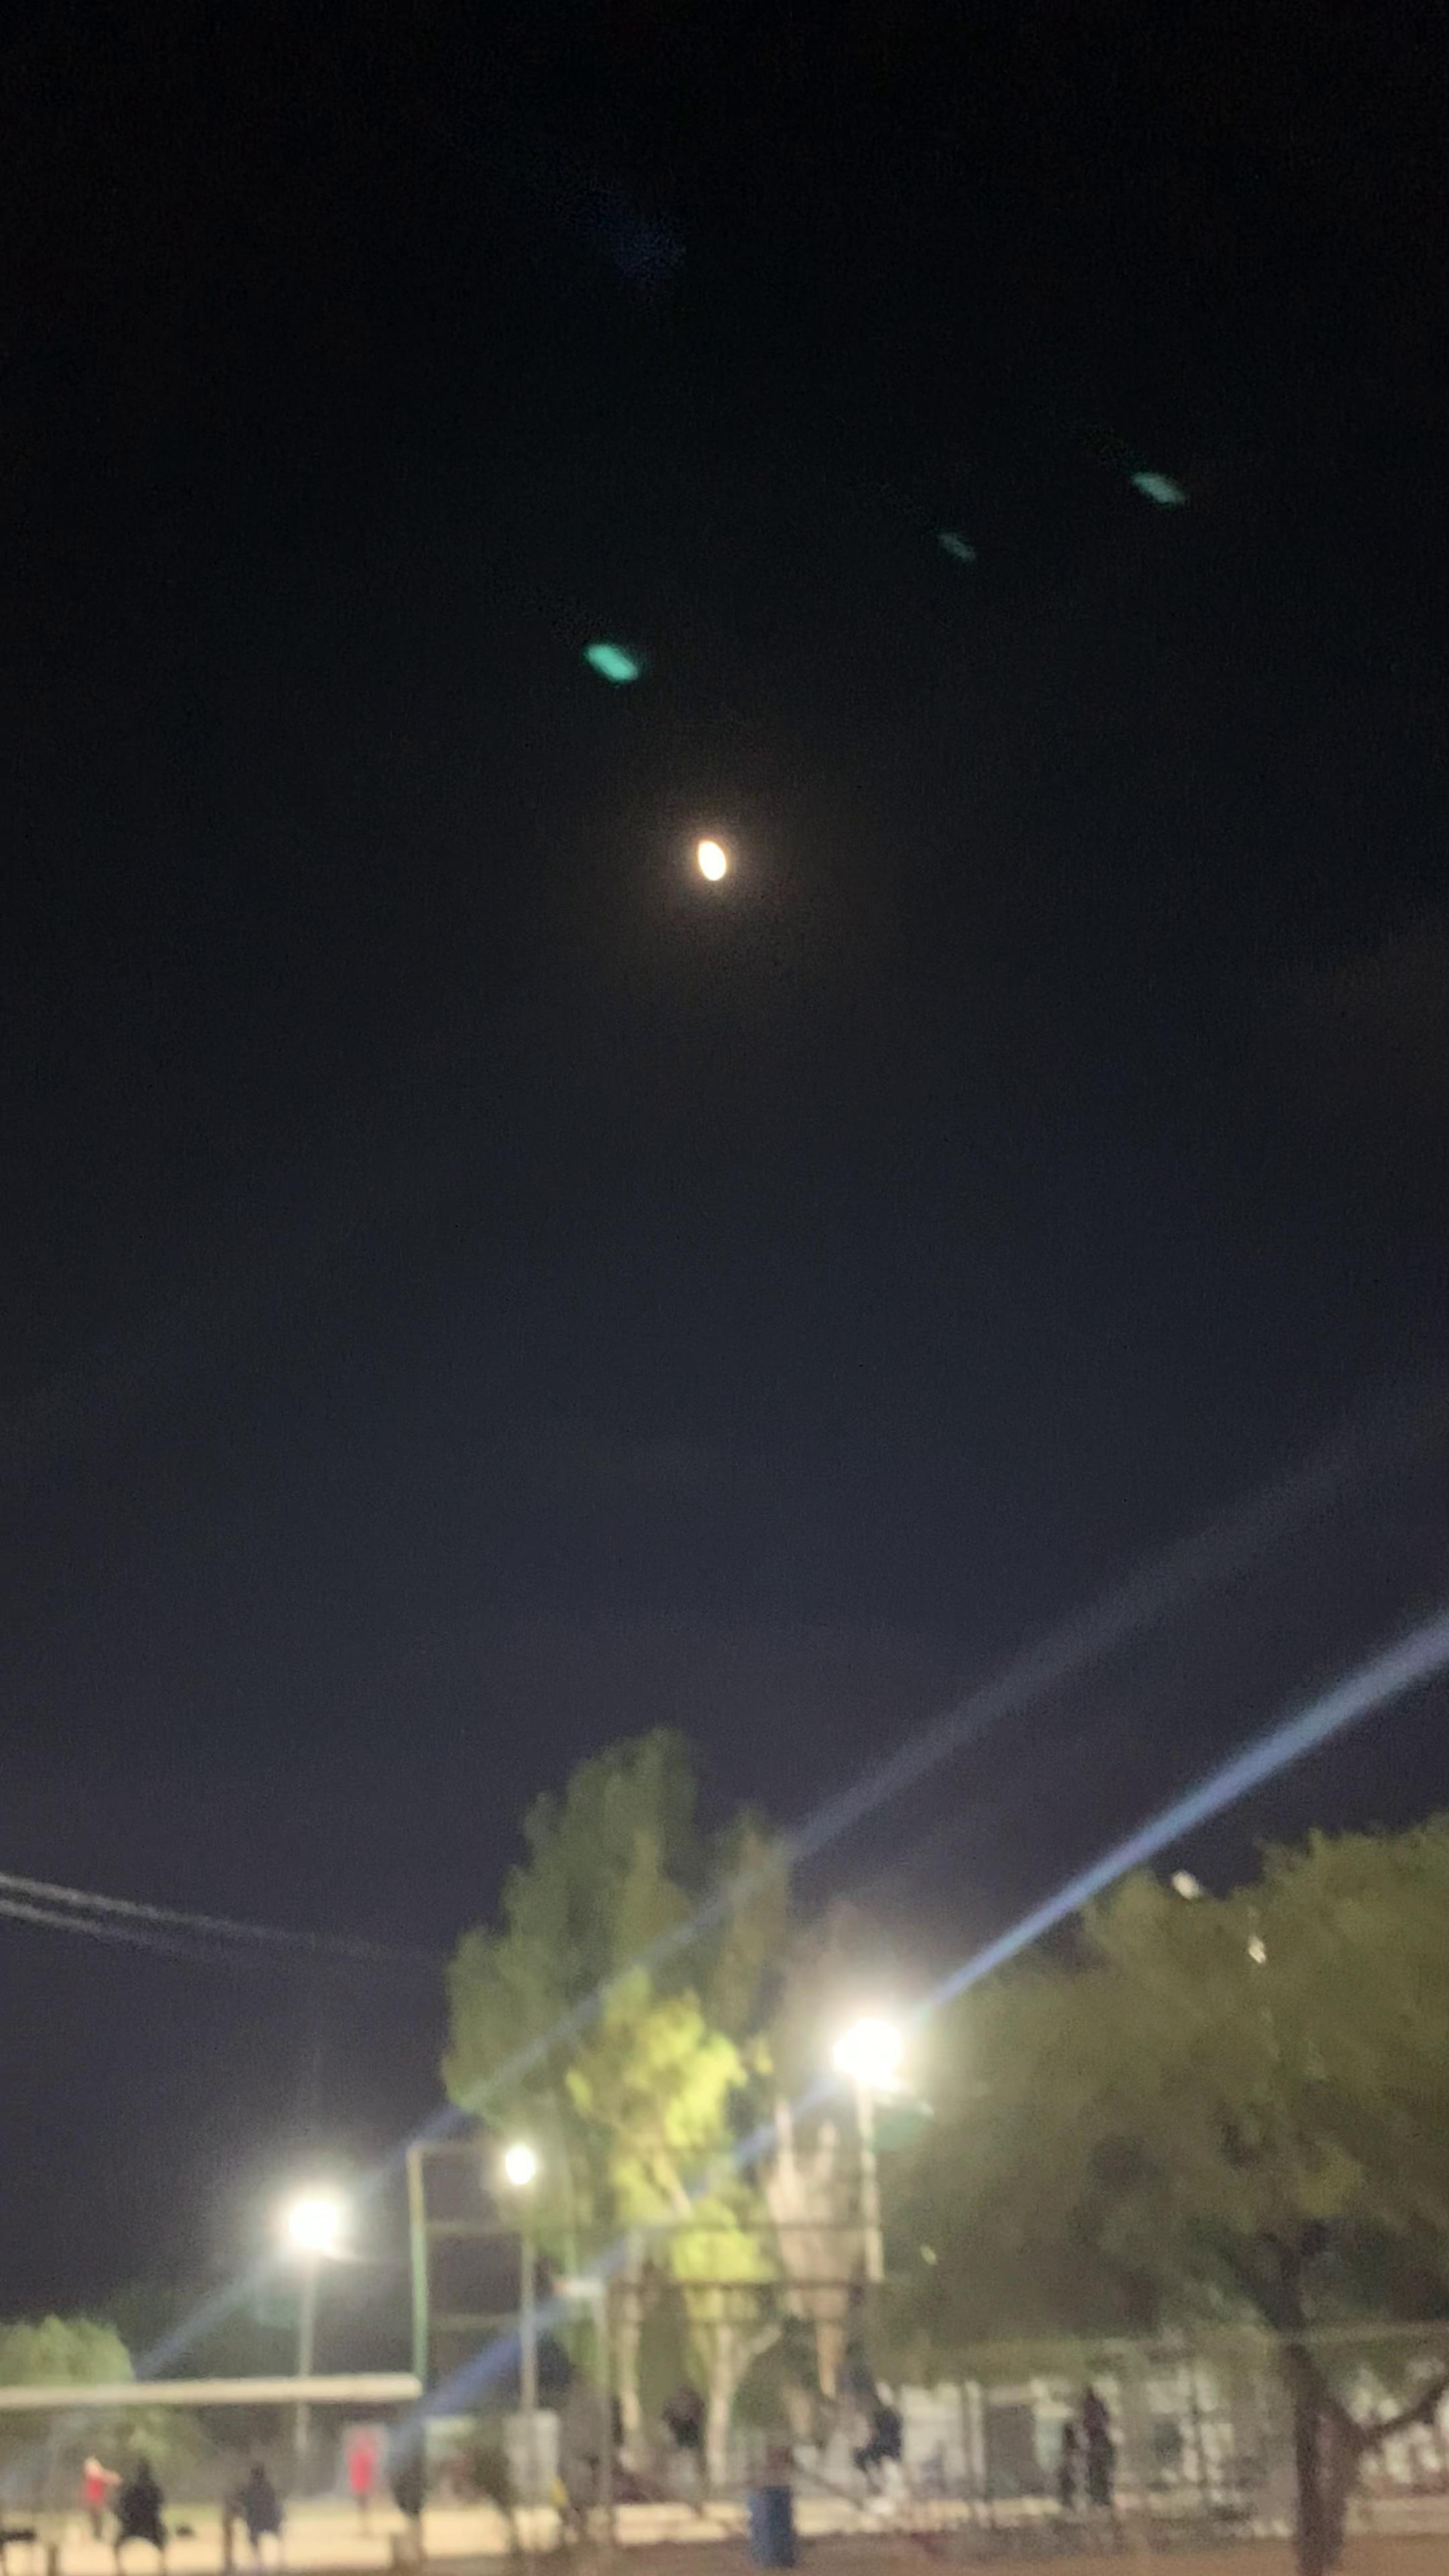moon: (628, 794, 789, 927)
